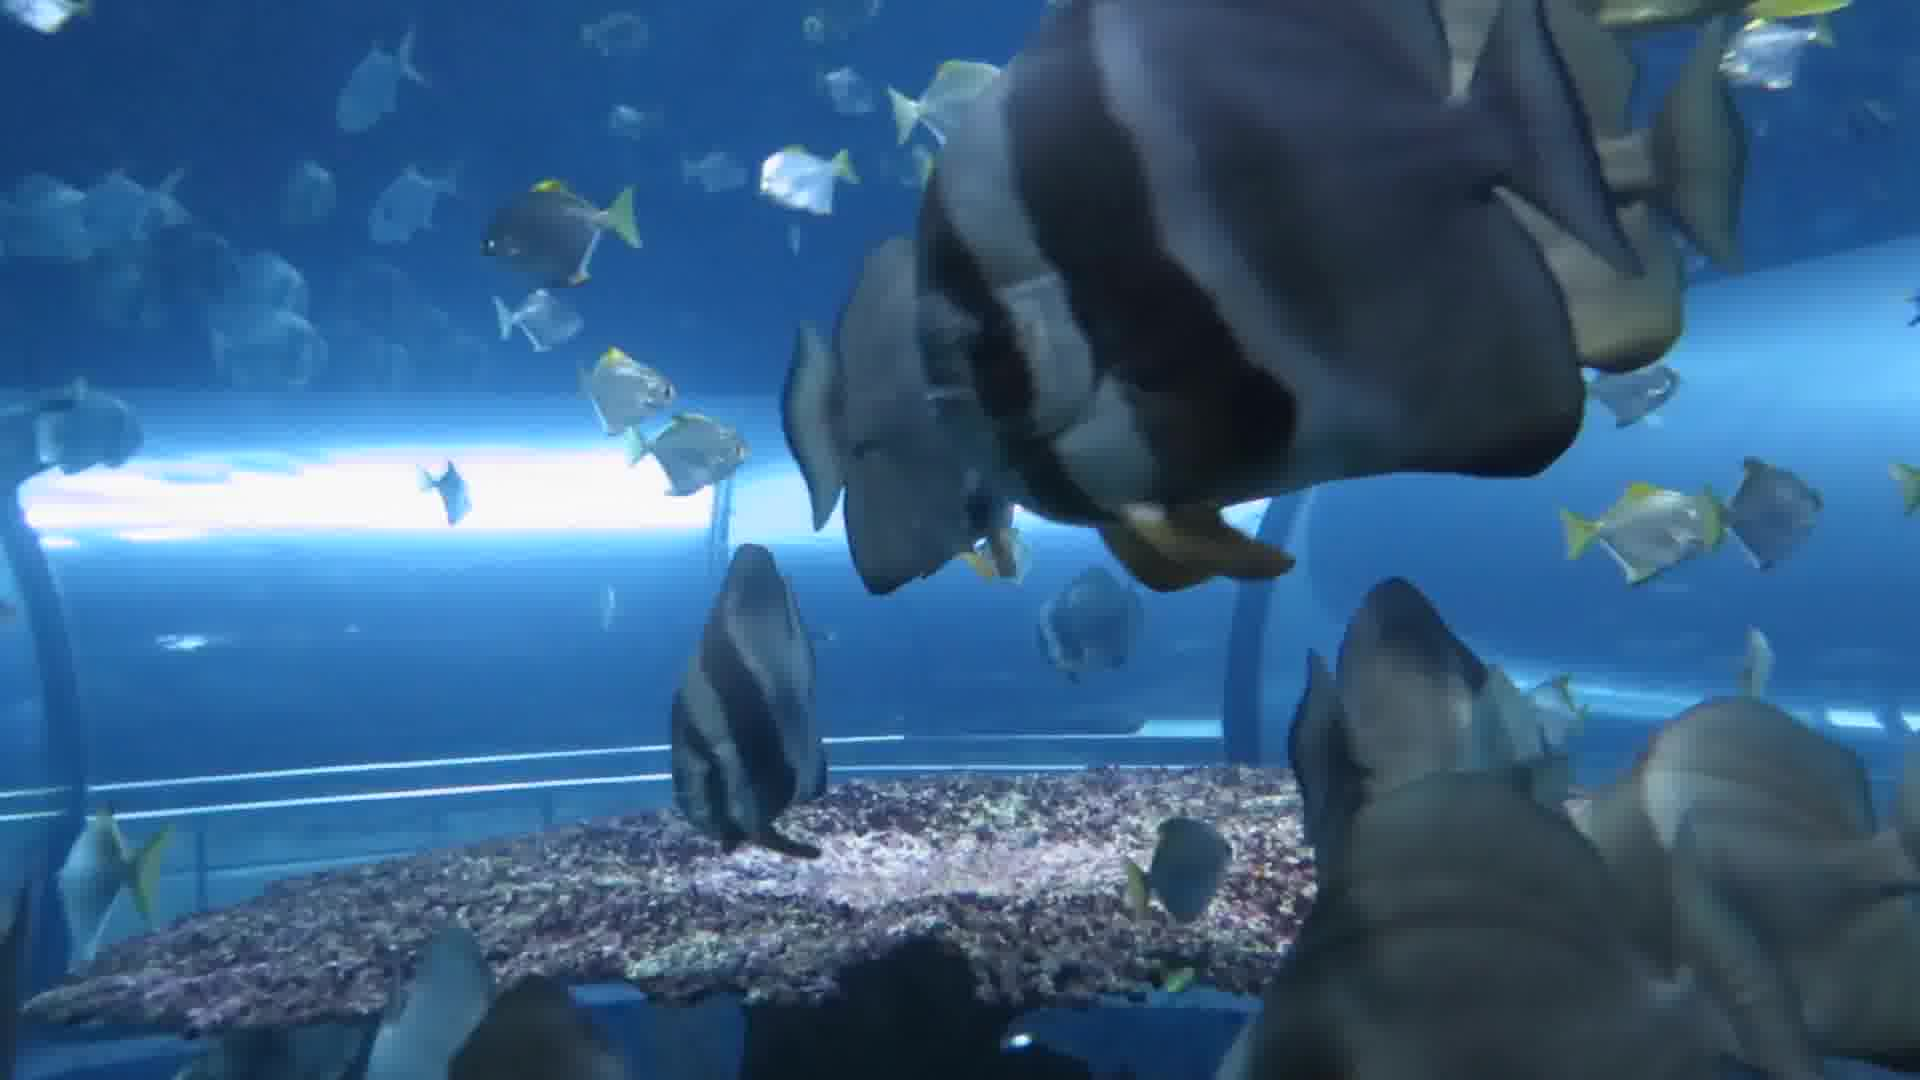Platax teira: (860, 1, 1606, 589), (558, 525, 897, 920)
